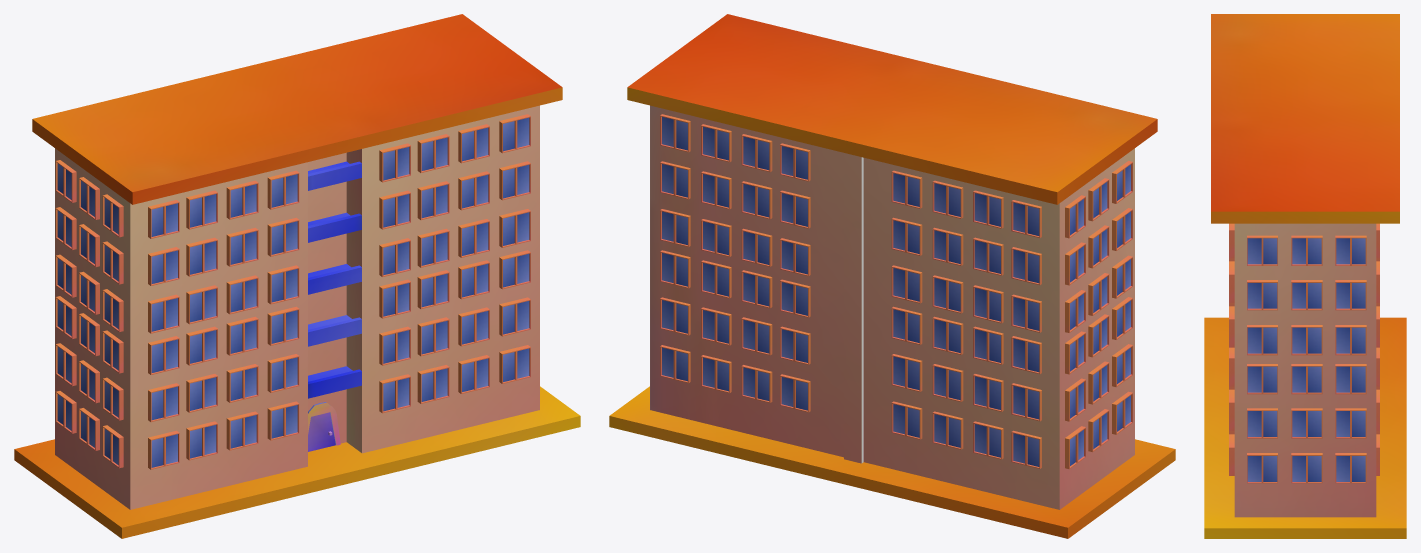
The model's file is House_8.glb.
3 views of the same model, side by side, from view 1: azimuth 30°, elevation 25°; view 2: azimuth 150°, elevation 25°; view 3: azimuth 270°, elevation 25° (orthographic). The views are drawn at different scales.
Visible parts, largest first — view 1: House_8; view 2: House_8; view 3: House_8.
Part boxes in pixels (x1,y1,x2,y2): House_8: (14, 14, 580, 538); House_8: (609, 14, 1175, 538); House_8: (1204, 14, 1406, 538).
Size of the model in its own units: 3197 by 2268 by 1298.
Materials: 1 (1 with a texture image).
